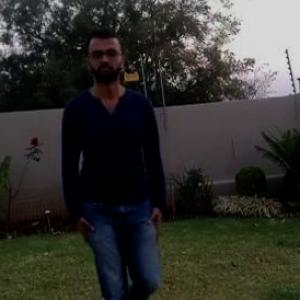follow: (67, 37, 167, 299)
